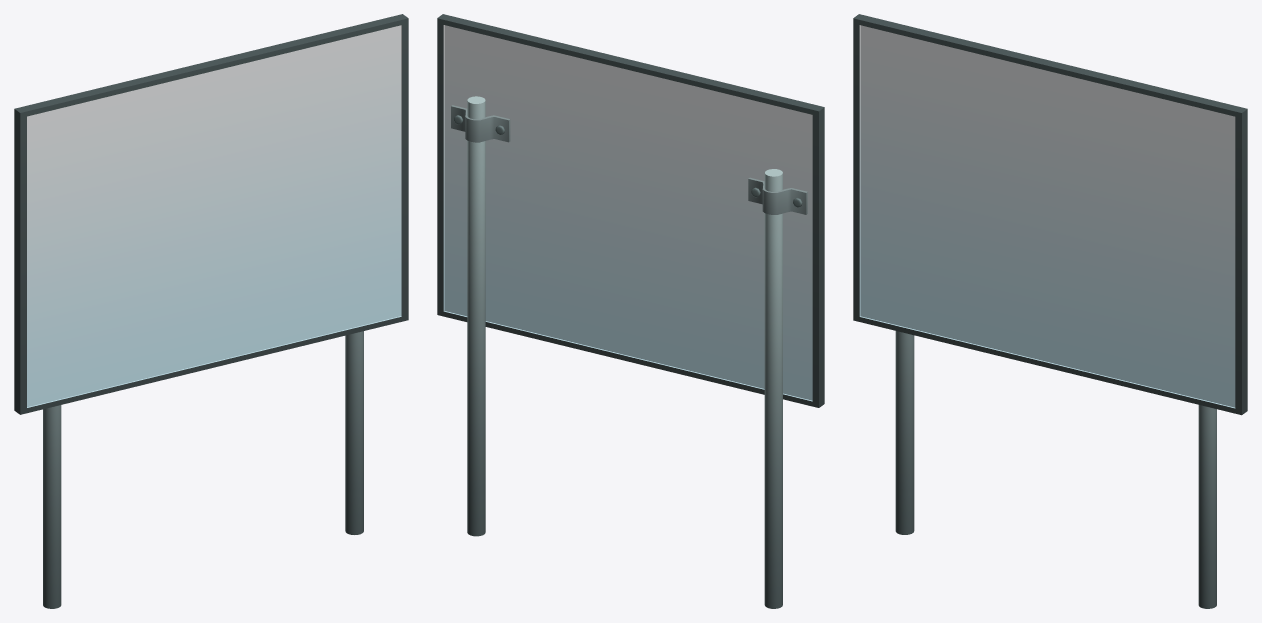
File: panneau radar wip.fbx
3 views of the same model, side by side, from view 1: azimuth 30°, elevation 25°; view 2: azimuth 150°, elevation 25°; view 3: azimuth 330°, elevation 25° (orthographic).
Visible parts, largest first — view 1: Panneau_Head.001; view 2: Panneau_Head.001; view 3: Panneau_Head.001.
Part boxes in pixels (x1,y1,x2,y2): Panneau_Head.001: (14, 14, 408, 608); Panneau_Head.001: (437, 14, 824, 608); Panneau_Head.001: (853, 14, 1247, 608).
Size of the model in its own units: 943 by 1182 by 65.53.
